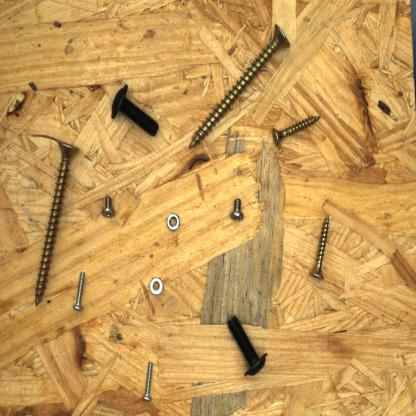screw: (185, 22, 293, 152), (33, 137, 82, 309), (109, 82, 163, 140), (226, 312, 270, 382), (268, 112, 322, 151), (308, 212, 336, 284), (72, 267, 88, 313), (140, 358, 155, 404), (99, 191, 117, 220)
